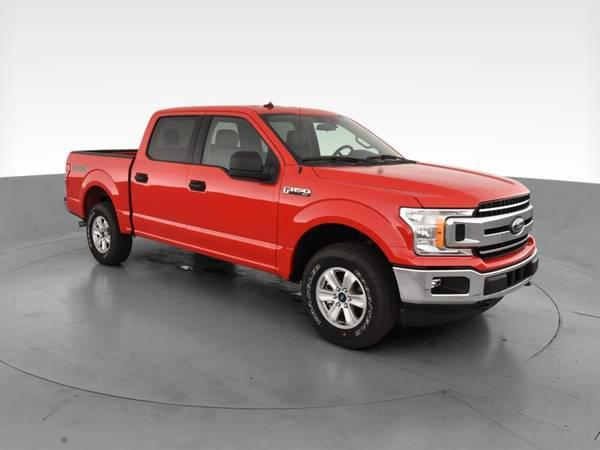Front_Bumper: (386, 235, 539, 327)
Front_Fender: (275, 162, 423, 278)
Front_Right_Door: (184, 164, 283, 274)
Front_Right_Window: (191, 114, 283, 178)
Front_Windshield: (259, 114, 406, 166)
Grille: (445, 191, 534, 259)
Hood: (304, 162, 527, 207)
Rear_Fender: (63, 150, 134, 233)
Rear_Right_Door: (129, 156, 191, 247)
Rear_Right_Window: (142, 114, 204, 163)
Right_Headlight: (399, 204, 473, 256)
Roof: (135, 102, 336, 162)
Wheel: (294, 242, 393, 347), (85, 202, 132, 265)
